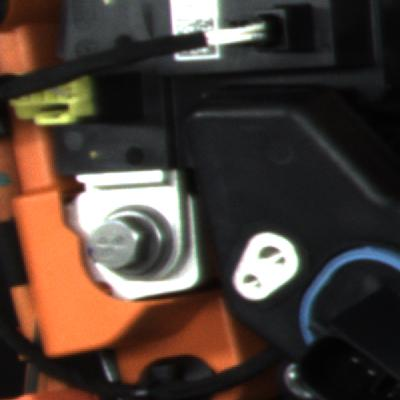nut_b: (83, 196, 184, 290)
